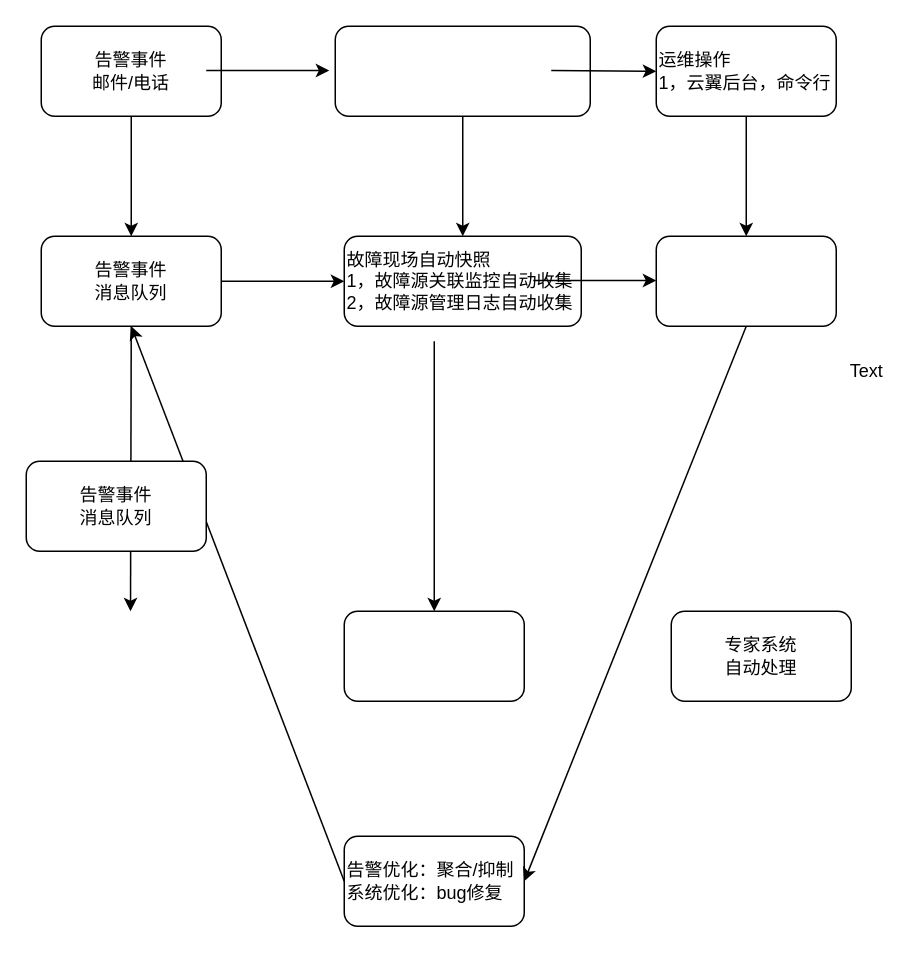
The diagram is 923 pixels wide and 953 high, and some of its shapes have lost their labels. Each missing label, with the centre of its shape:
故障现场人为收集 1，跨越多个系统收集日志 2，跨多个系统收集监控: the point at 462,70
自动诊断: the point at 433,655
运维操作 1，运维平台 2，自动化工具: the point at 745,280
